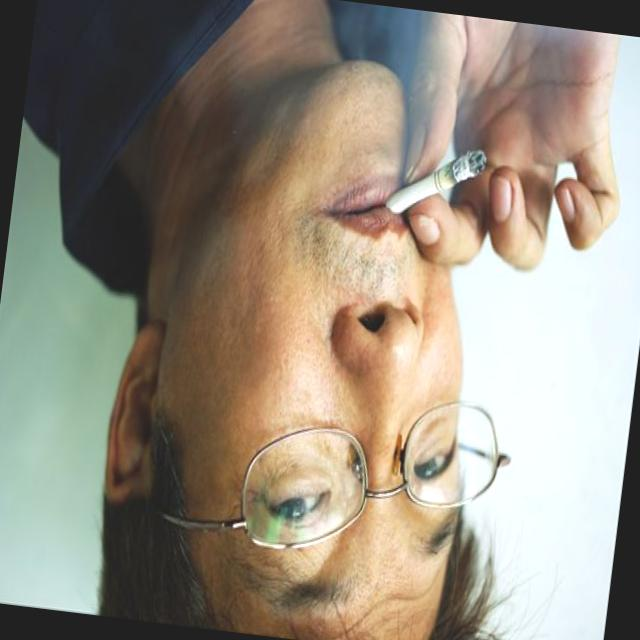smoke: (431, 137, 488, 205)
